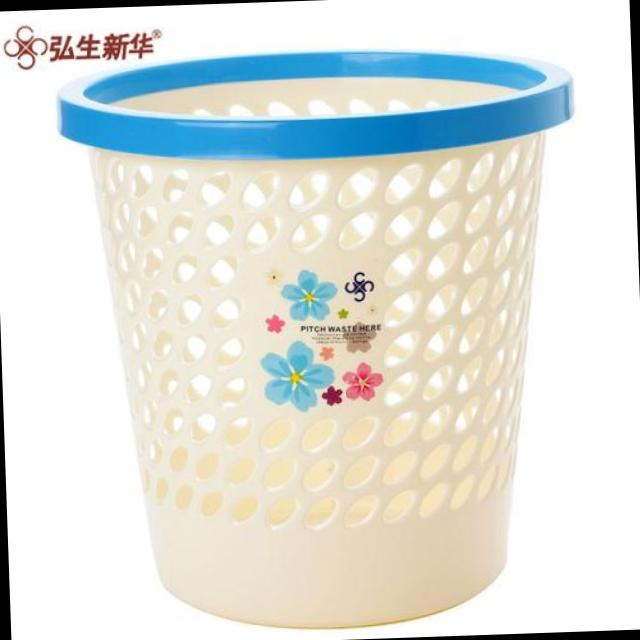dustbin: (49, 37, 602, 640)
